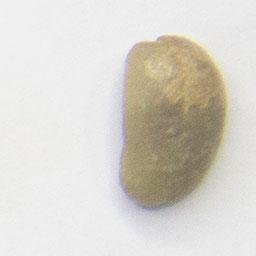longberry: (114, 29, 230, 214)
